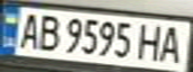5: (115, 19, 139, 60), (78, 16, 100, 56)
9: (60, 15, 84, 54), (97, 18, 118, 57)
A: (12, 10, 45, 49), (157, 22, 187, 64)
B: (33, 11, 63, 52)
H: (136, 20, 166, 62)
